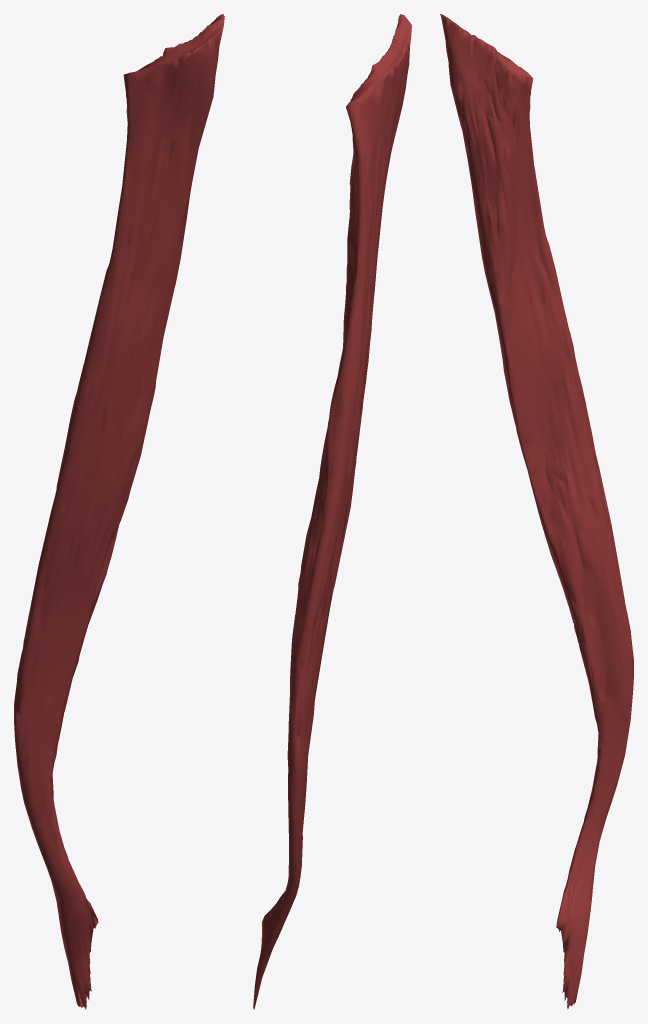
File: gracilis-muscle-l.glb
3 renders of one model, left to right at view 1: azimuth 90°, elevation 25°; view 2: azimuth 150°, elevation 25°; view 3: azimuth 270°, elevation 25°, orthographic. The views are drawn at different scales.
Parts seen in each view (by area): view 1: Gracilis muscle.l; view 2: Gracilis muscle.l; view 3: Gracilis muscle.l.
Boxes of the visible parts, box(x1,y1,x2,y2) form: Gracilis muscle.l: box(14, 14, 224, 1009); Gracilis muscle.l: box(253, 14, 411, 1009); Gracilis muscle.l: box(440, 14, 633, 1009).
Size of the model in its own units: 0.053 by 0.4936 by 0.0907.
